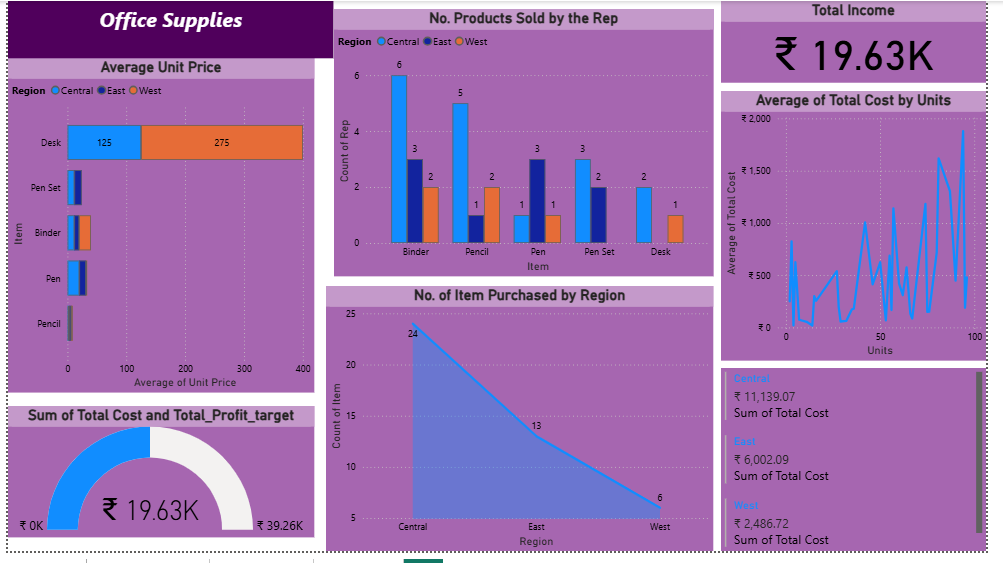

What the dashboard file says about the page in this screenshot:
{"tool":"powerbi","page":{"name":"Office Supplies","canvas":[1280,720],"ordinal":0},"visuals":[{"type":"barChart","title":"Average Unit Price","fields":{"Y":["Avg(P6-OfficeSupplies.Unit Price)"],"Category":["P6-OfficeSupplies.Item"],"Series":["P6-OfficeSupplies.Region"]},"box":[0,74.9,401.1,437.9],"z":0},{"type":"textbox","box":[0,0,426.1,74.9],"z":1000},{"type":"clusteredColumnChart","title":"No. Products Sold by the Rep","fields":{"Y":["Count(P6-OfficeSupplies.Rep)"],"Category":["P6-OfficeSupplies.Item"],"Series":["P6-OfficeSupplies.Region"]},"box":[426.1,10.3,496.7,349.7],"z":2000},{"type":"card","title":"Total Income","fields":{"Values":["Sum(P6-OfficeSupplies.Total Cost)"]},"box":[933.1,0,346.8,107.3],"z":5000},{"type":"areaChart","title":"No. of Item Purchased by Region","fields":{"Category":["P6-OfficeSupplies.Region"],"Y":["CountNonNull(P6-OfficeSupplies.Item)"]},"box":[415.8,373.2,506.9,346.8],"z":7000},{"type":"multiRowCard","fields":{"Values":["P6-OfficeSupplies.Region","Sum(P6-OfficeSupplies.Total Cost)"]},"box":[933.1,480.5,346.8,239.5],"z":8002},{"type":"lineChart","fields":{"Y":["Avg(P6-OfficeSupplies.Total Cost)"],"Category":["P6-OfficeSupplies.Units"]},"box":[933.1,117.6,346.8,352.7],"z":8003},{"type":"gauge","fields":{"Y":["Sum(P6-OfficeSupplies.Total Cost)"],"TargetValue":["P6-OfficeSupplies.Total_Profit_target"]},"box":[0,530.4,401.1,171.9],"z":8004}]}

Visuals, with their boxes in screenshot pixels (x1, y1, x2, y2), scaled from the page's 1280x720 canvas onto the 1003x563 screenshot:
"Average Unit Price" barChart: [0, 59, 314, 401]
textbox: [0, 0, 334, 59]
"No. Products Sold by the Rep" clusteredColumnChart: [334, 8, 723, 282]
"Total Income" card: [731, 0, 1002, 84]
"No. of Item Purchased by Region" areaChart: [326, 292, 723, 562]
multiRowCard - P6-OfficeSupplies.Region x Sum(P6-OfficeSupplies.Total Cost): [731, 376, 1002, 562]
lineChart - Avg(P6-OfficeSupplies.Total Cost) x P6-OfficeSupplies.Units: [731, 92, 1002, 368]
gauge - Sum(P6-OfficeSupplies.Total Cost) x P6-OfficeSupplies.Total_Profit_target: [0, 415, 314, 549]
